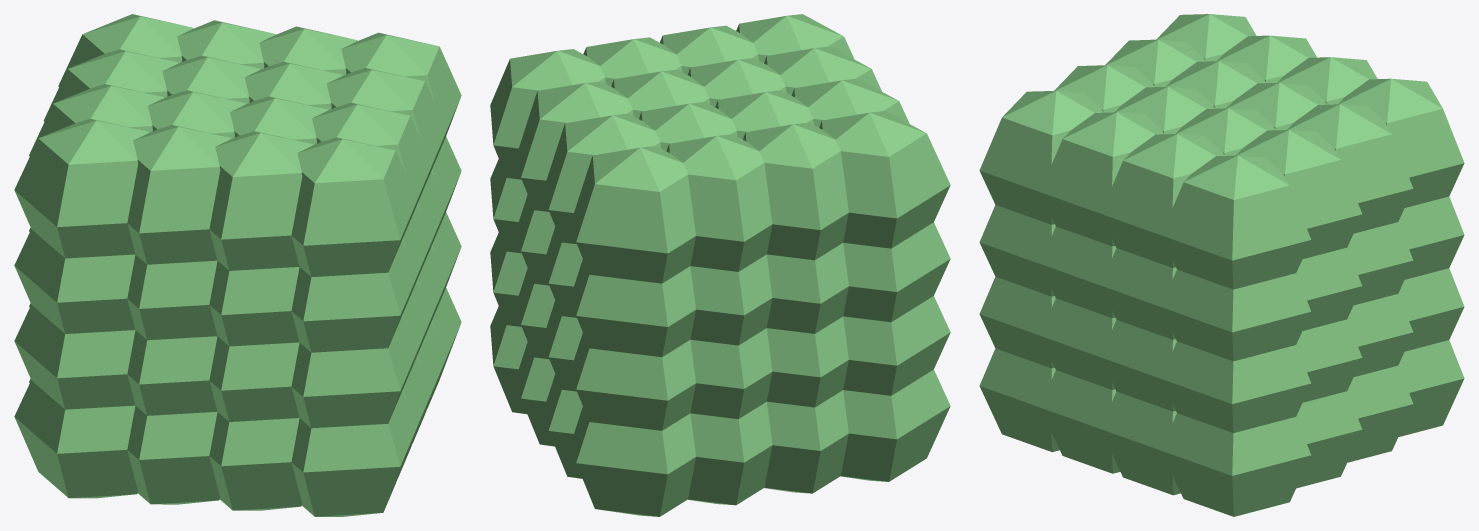
The model's file is uuon-fractal-5.glb.
3 renders of one model, left to right at view 1: azimuth 30°, elevation 25°; view 2: azimuth 150°, elevation 25°; view 3: azimuth 270°, elevation 25°, orthographic. The views are drawn at different scales.
Bounding box in the file's own units: 9.92 × 8.16 × 10.
